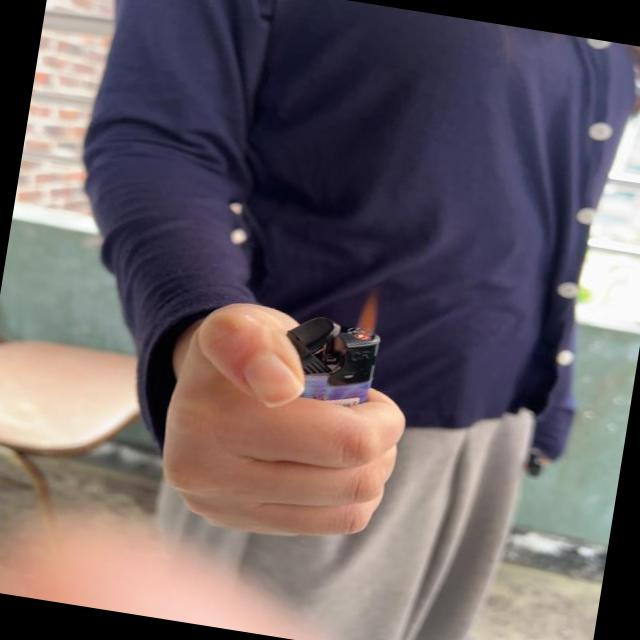Fire: (350, 284, 384, 344)
